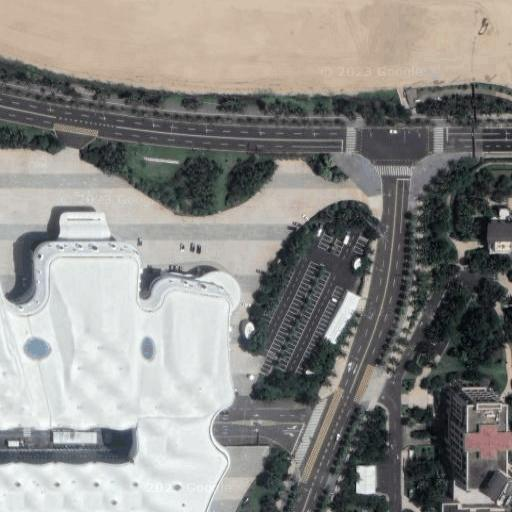building: (0, 211, 244, 512), (467, 404, 512, 502), (437, 491, 512, 512), (486, 222, 512, 255), (355, 461, 378, 494)
